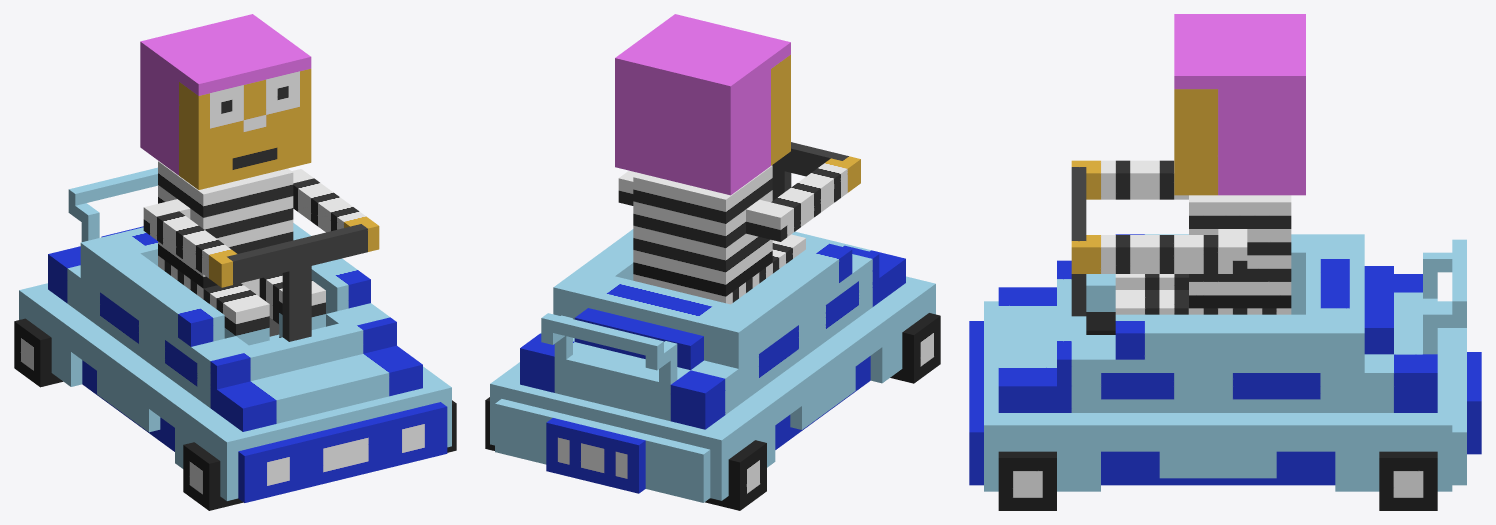
File: Character_10.fbx
3 renders of one model, left to right at view 1: azimuth 30°, elevation 25°; view 2: azimuth 150°, elevation 25°; view 3: azimuth 270°, elevation 25°, orthographic. The views are drawn at different scales.
Visible parts, largest first — view 1: Character_10; view 2: Character_10; view 3: Character_10.
Boxes of the visible parts, x1,y1,x2,y2 form: Character_10: (14,14,456,510); Character_10: (485,14,940,510); Character_10: (969,14,1481,510).
Bounding box in the file's own units: 22 × 30 × 35.
1 material, 1 textured.
